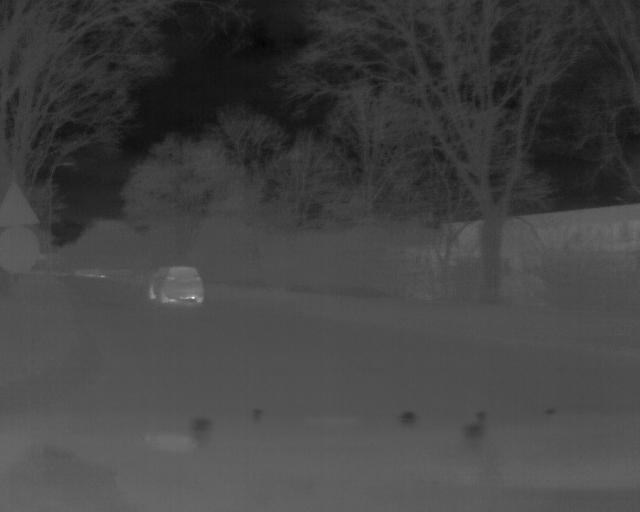car: (148, 263, 206, 308)
